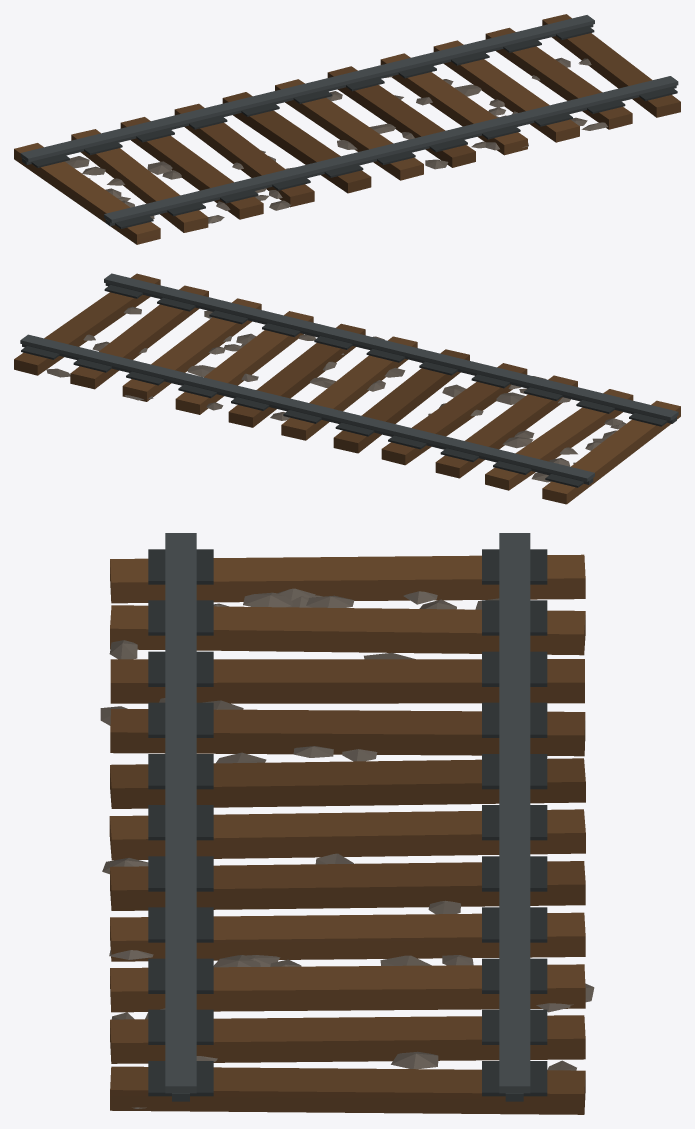
Rendered from mine_rails.glb.
3 renders of one model, top to bottom at view 1: azimuth 30°, elevation 25°; view 2: azimuth 150°, elevation 25°; view 3: azimuth 270°, elevation 25°, orthographic. The views are drawn at different scales.
Visible parts, largest first — view 1: mine_rails; view 2: mine_rails; view 3: mine_rails.
Part boxes in pixels (bbox=[...]): mine_rails: bbox=[14, 14, 680, 244]; mine_rails: bbox=[14, 273, 680, 504]; mine_rails: bbox=[100, 533, 594, 1114].
Size of the model in its own units: 4 by 0.12 by 1.51.
